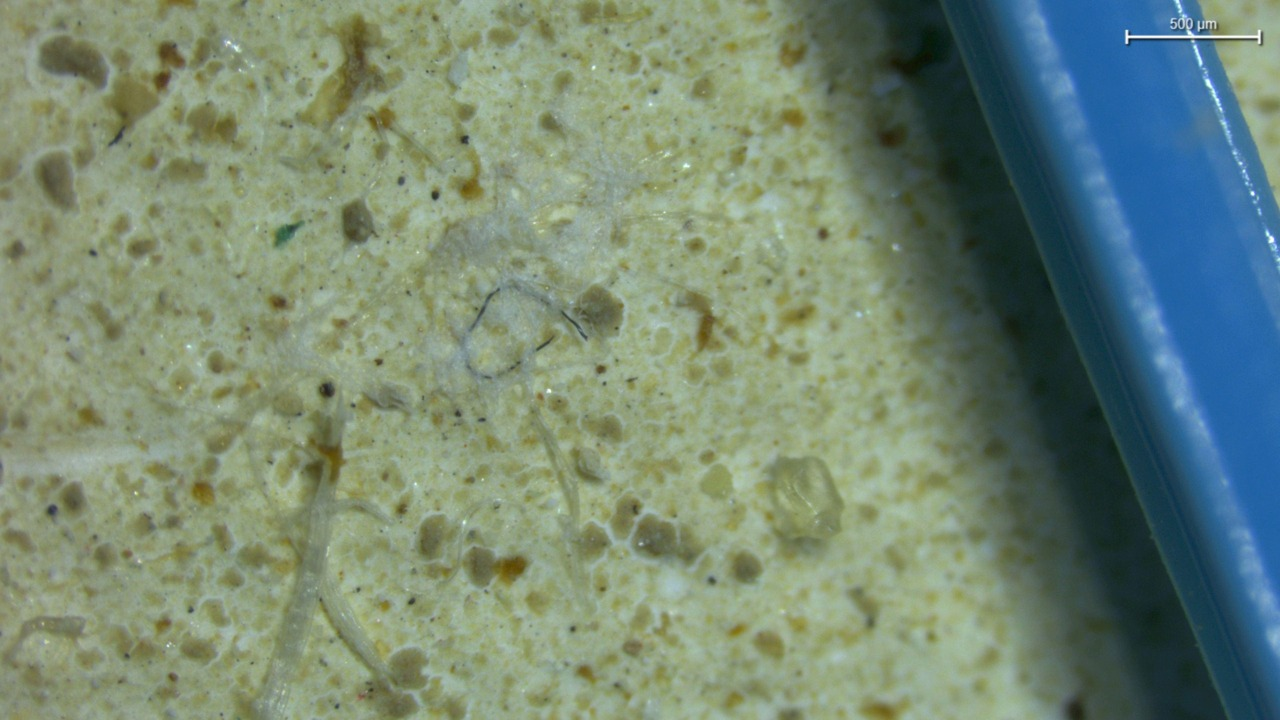microplastic_fragment: (765, 457, 843, 540), (448, 50, 469, 88)
